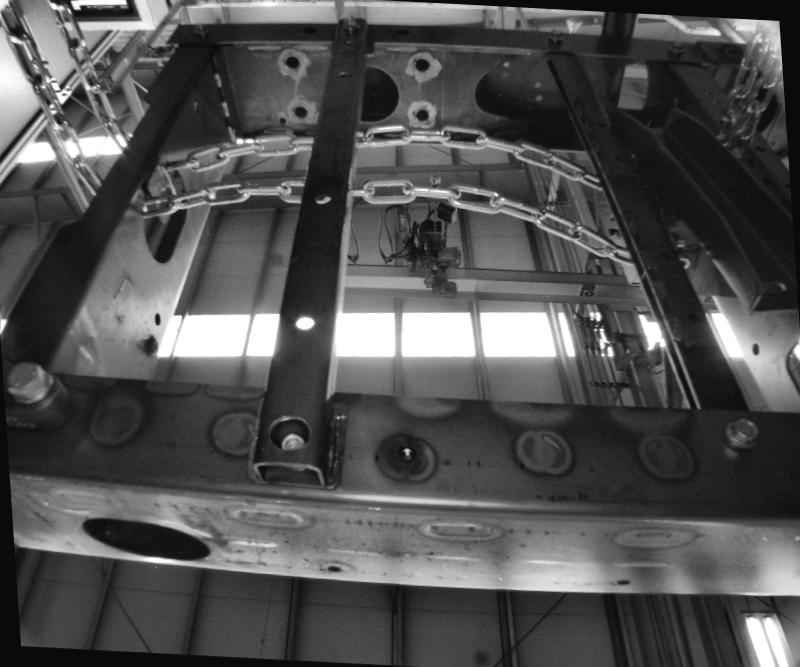bolt: (2, 352, 57, 413), (719, 416, 765, 449), (138, 333, 162, 358)
bracket: (134, 140, 184, 222)
hole: (60, 505, 217, 562), (268, 412, 309, 453), (273, 54, 306, 83), (291, 312, 318, 335), (392, 441, 417, 463), (311, 186, 333, 202), (410, 101, 428, 117), (292, 103, 309, 119), (746, 340, 762, 355), (412, 52, 428, 65), (614, 574, 629, 587), (326, 561, 342, 572), (150, 312, 160, 324)
